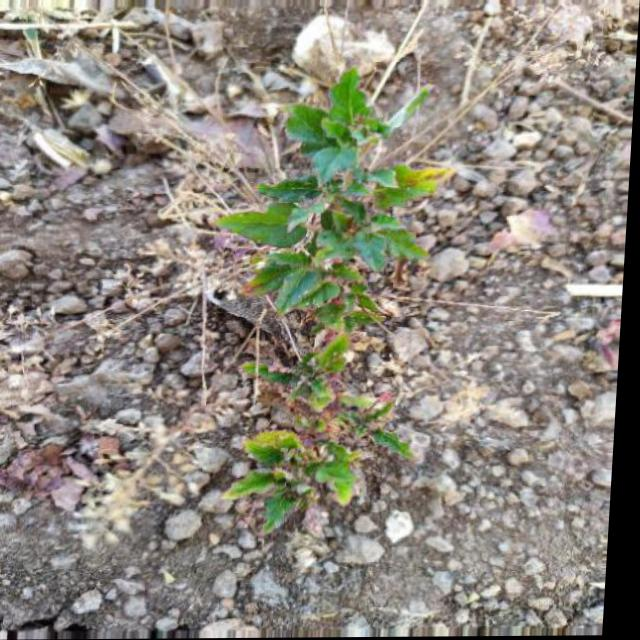weed: (177, 70, 474, 536)
